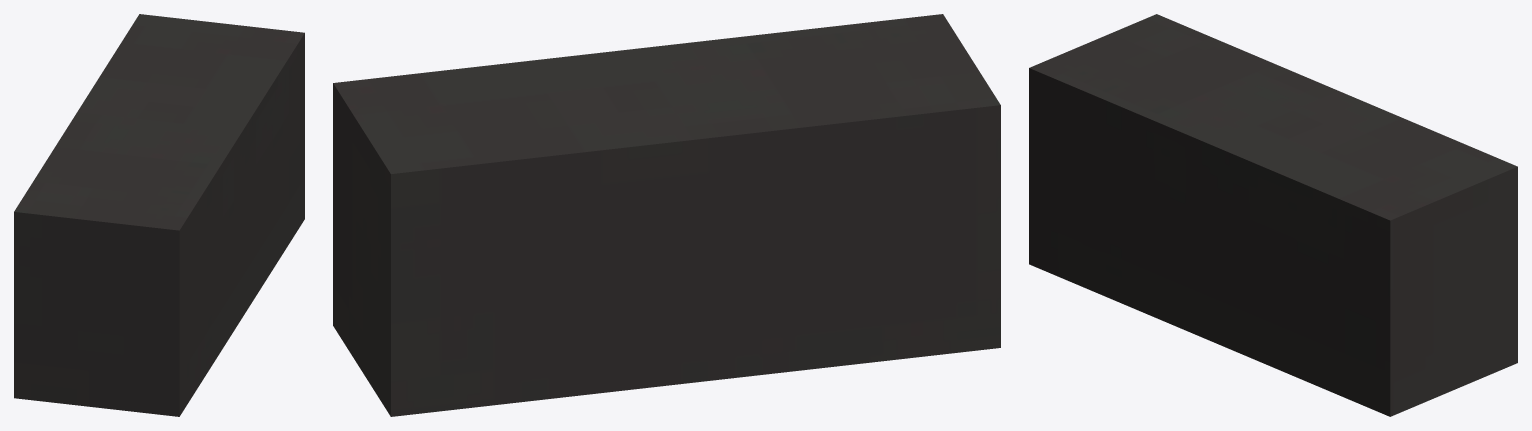
The model's file is frame__front_down_leg.glb.
3 views of the same model, side by side, from view 1: azimuth 30°, elevation 25°; view 2: azimuth 150°, elevation 25°; view 3: azimuth 270°, elevation 25° (orthographic). The views are drawn at different scales.
Parts seen in each view (by area): view 1: world; view 2: world; view 3: world.
Boxes of the visible parts, x1,y1,x2,y2 form: world: [14, 14, 304, 416]; world: [333, 14, 1000, 416]; world: [1029, 14, 1517, 416].
Bounding box in the file's own units: 0.1354 × 0.06 × 0.1354.
1 material, 1 textured.
